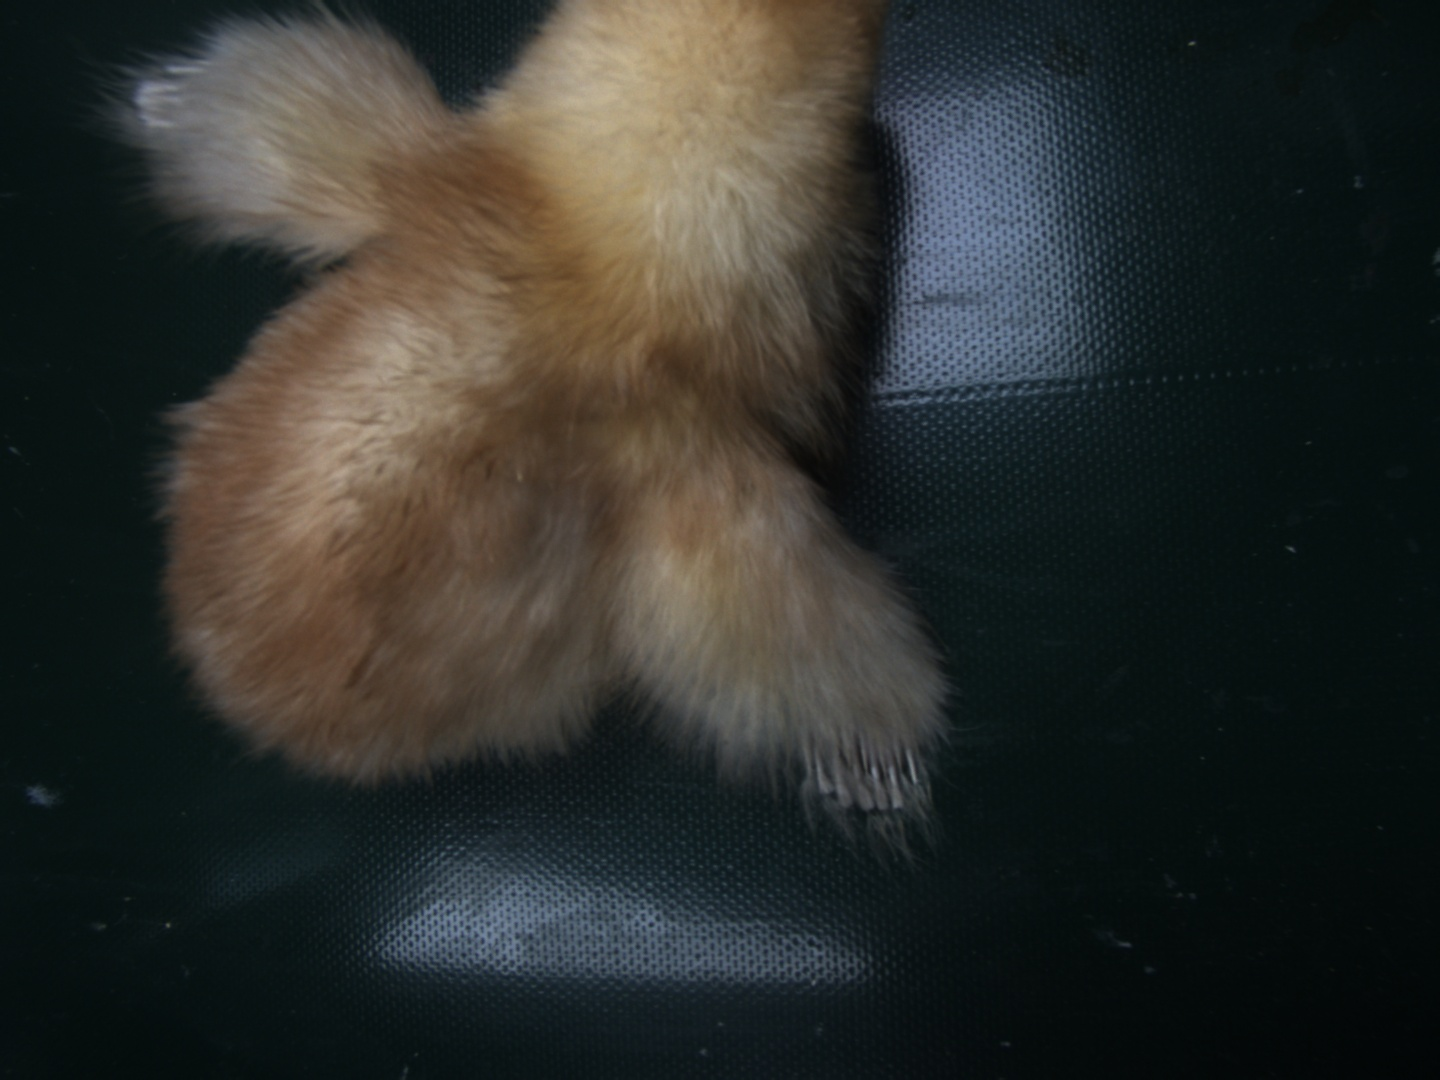female: (798, 729, 935, 818)
